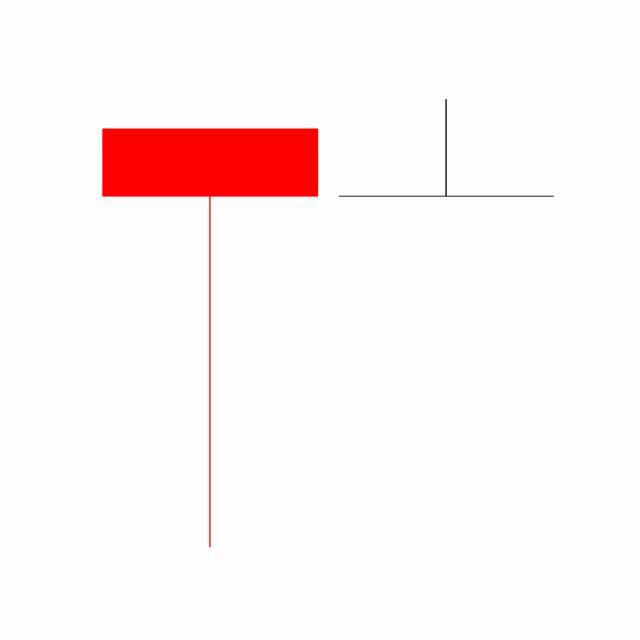Gravestone Doji: (328, 98, 566, 198)
